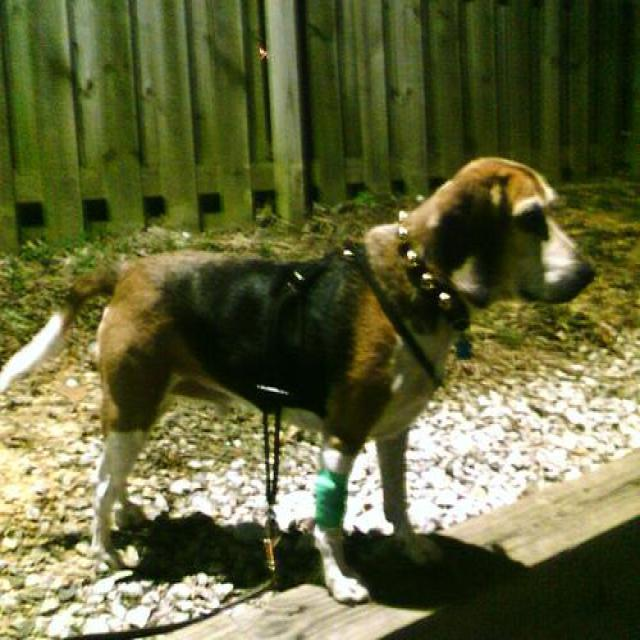beagle: (97, 158, 594, 604)
